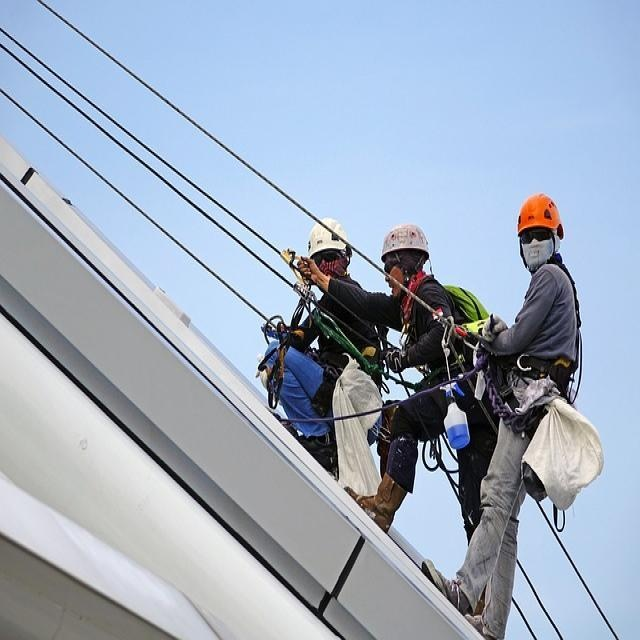Arnes_seguridad: (374, 257, 509, 500), (476, 247, 593, 450), (253, 248, 381, 431)
